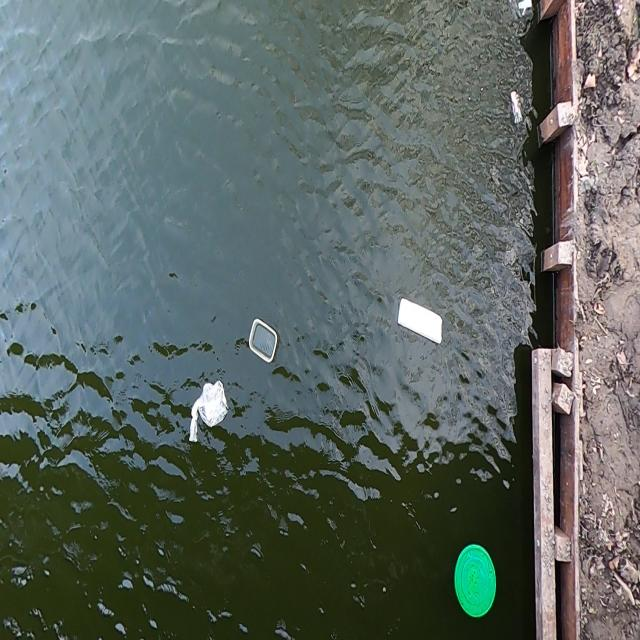Autre plastique: (453, 541, 501, 624), (246, 312, 282, 374)
Non plastique: (506, 88, 526, 135)
Sac plastique: (184, 377, 230, 448)
